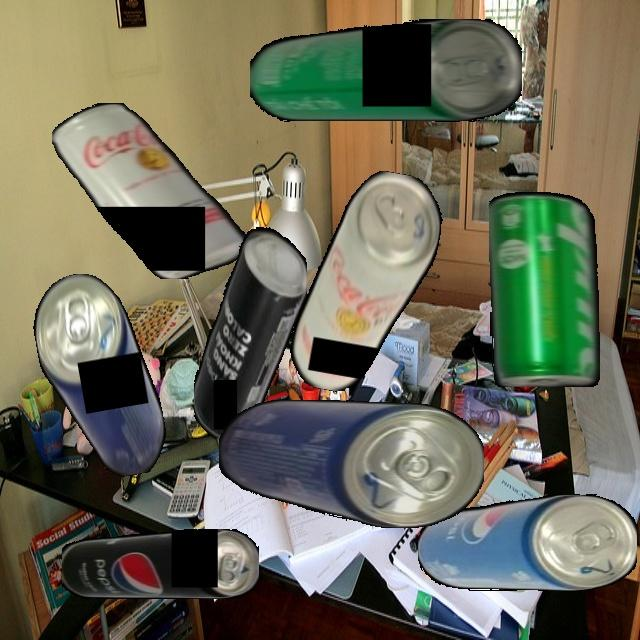debris: (285, 161, 449, 404), (52, 102, 246, 279), (218, 400, 484, 528), (26, 264, 172, 487), (249, 19, 522, 122), (193, 220, 307, 438), (489, 191, 600, 387), (417, 494, 637, 591), (61, 529, 259, 599)
